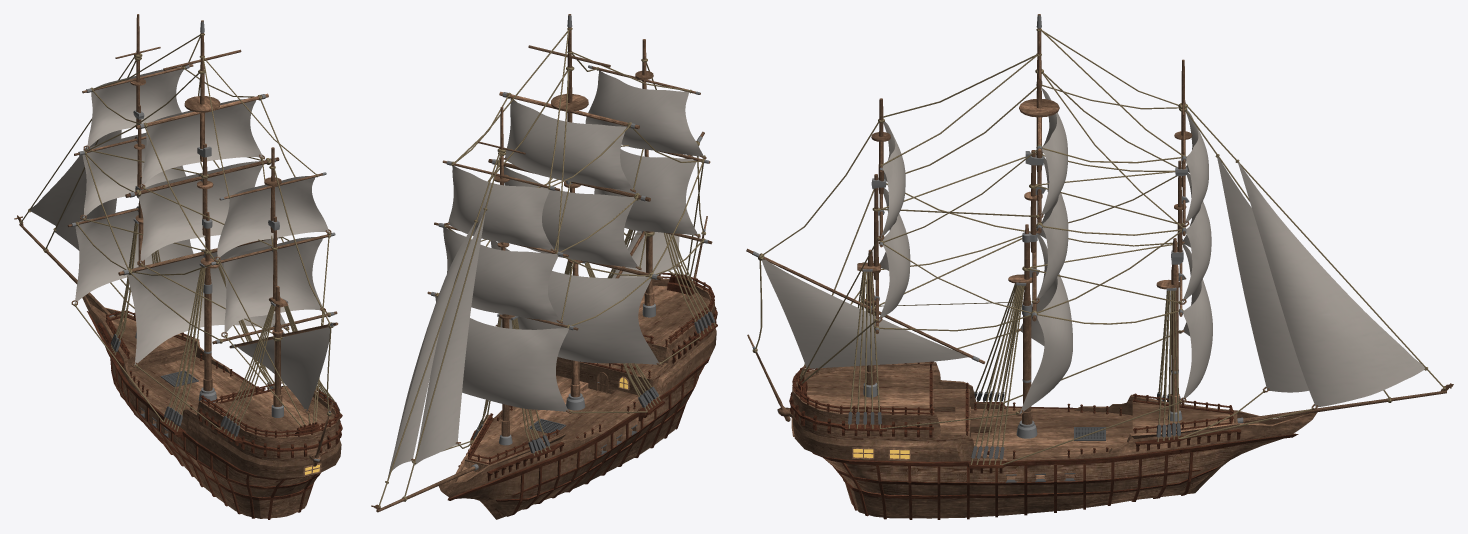
File: PirateShip_Draco_old.glb
The picture shows the model from 3 angles, left to right: view 1: azimuth 30°, elevation 25°; view 2: azimuth 150°, elevation 25°; view 3: azimuth 270°, elevation 25°; orthographic projection. The views are drawn at different scales.
Parts seen in each view (by area): view 1: BackJib_Sails_0, MainShip_MainShip_0, ForeMast_Poles_0, Cylinder.068_Ropes_0, BeamDetails_Details_0, ForeshroudDetail_Metal_0; view 2: BackJib_Sails_0, MainShip_MainShip_0, Cylinder.068_Ropes_0, ForeMast_Poles_0, BeamDetails_Details_0, ForeshroudDetail_Metal_0; view 3: BackJib_Sails_0, MainShip_MainShip_0, Cylinder.068_Ropes_0, ForeMast_Poles_0, BeamDetails_Details_0, ForeshroudDetail_Metal_0.
Part boxes in pixels (x1,y1,x2,y2): BackJib_Sails_0: [30, 68, 329, 411]; MainShip_MainShip_0: [71, 145, 342, 518]; ForeMast_Poles_0: [14, 14, 338, 466]; Cylinder.068_Ropes_0: [19, 33, 340, 439]; BeamDetails_Details_0: [97, 310, 341, 519]; ForeshroudDetail_Metal_0: [110, 334, 339, 437]; BackJib_Sails_0: [387, 70, 703, 478]; MainShip_MainShip_0: [411, 155, 717, 519]; Cylinder.068_Ropes_0: [378, 28, 715, 508]; ForeMast_Poles_0: [371, 14, 712, 512]; BeamDetails_Details_0: [458, 272, 716, 516]; ForeshroudDetail_Metal_0: [473, 311, 715, 455]; BackJib_Sails_0: [762, 88, 1425, 414]; MainShip_MainShip_0: [789, 151, 1318, 518]; Cylinder.068_Ropes_0: [752, 28, 1445, 464]; ForeMast_Poles_0: [746, 14, 1453, 438]; BeamDetails_Details_0: [790, 361, 1241, 519]; ForeshroudDetail_Metal_0: [848, 391, 1180, 482].
Bounding box in the file's own units: 159 × 390 × 511.
8 materials, 8 textured.
